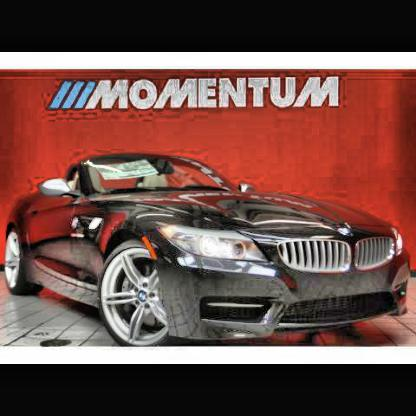BMW Z4 Convertible 2012: (4, 154, 413, 349)
